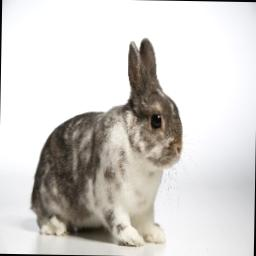rabbit: (30, 39, 182, 246)
